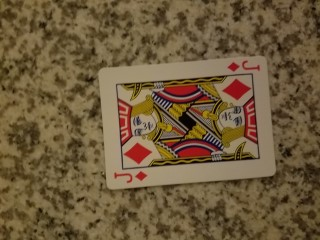JackOfDiamonds: (98, 54, 276, 190)
